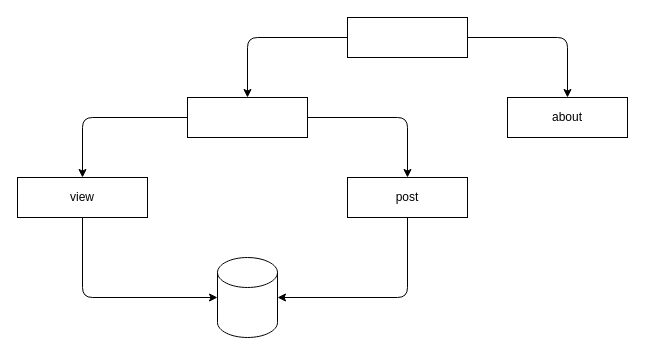
Image size: 645x355. Some labels were removed from this diagram. Here are the shapes that lost their labels. From the top down, the centre of each, then its label:
At point 407,37: "website".
At point 247,117: "news".
